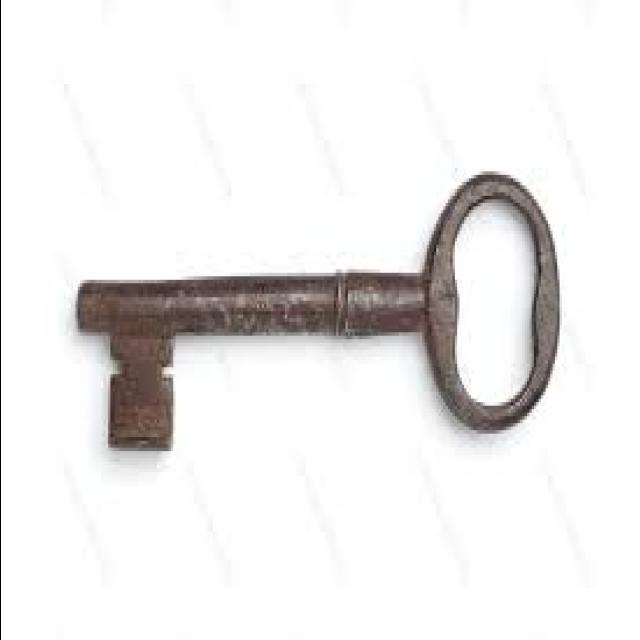key: (62, 82, 596, 552)
